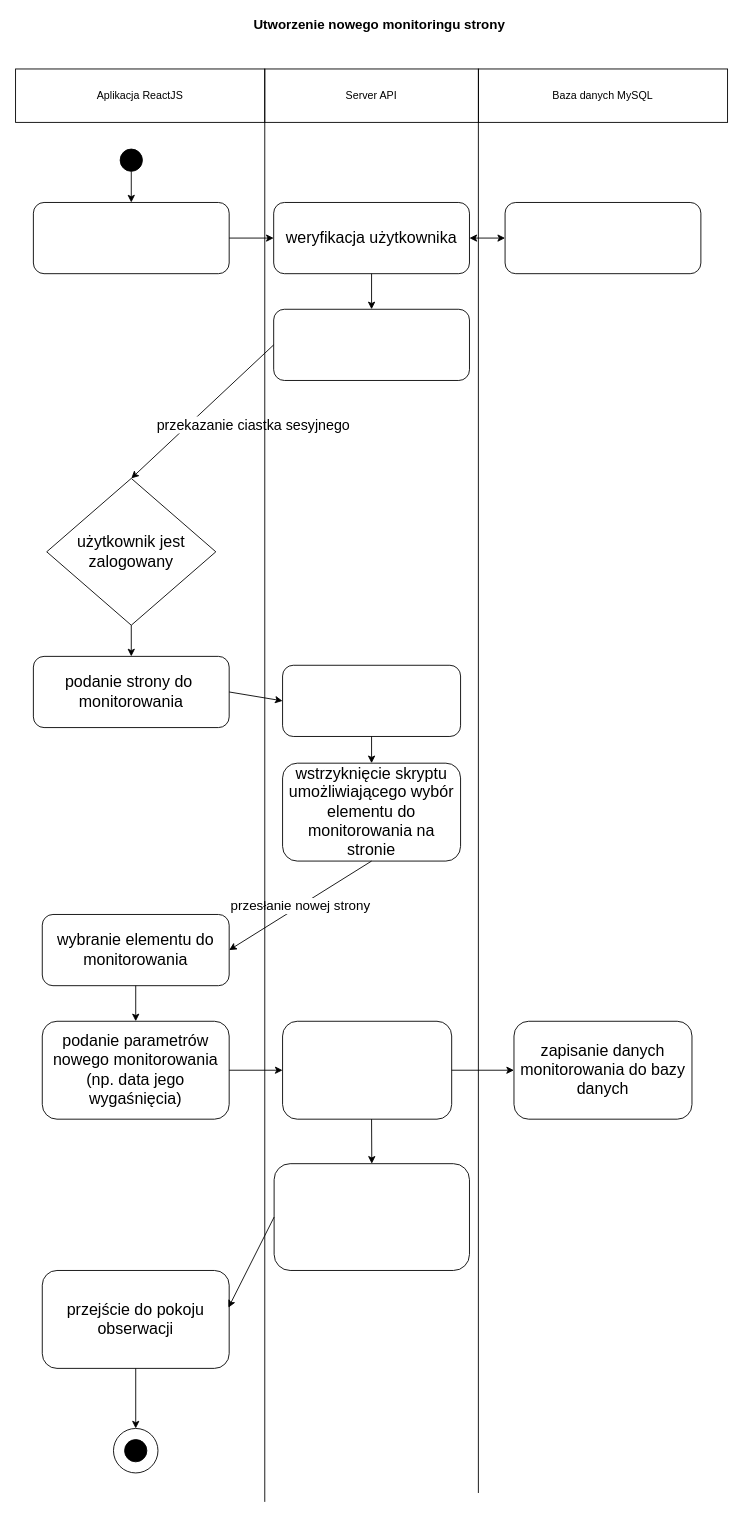
Some shapes in this 743 by 1518 pixel diagram are drawn without their labels. Each missing label, with the box of its shape:
nawiązanie z przeglądarką użytkownika komuniacji za pomocą protokołu webSockets: (273, 1163, 469, 1270)
pobranie danych użytkownika (hasło, sól, mail): (504, 202, 701, 274)
podanie danych logowania: (32, 202, 229, 274)
utworzenie nowego cyklicznego procesu monitorowania strony: (282, 1020, 452, 1119)
utworzenie sesji: (273, 308, 469, 380)
ściagnięcie strony: (282, 664, 461, 736)
